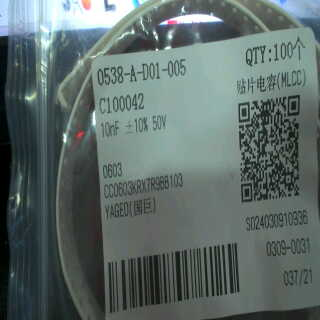10nF: (99, 118, 124, 141)
